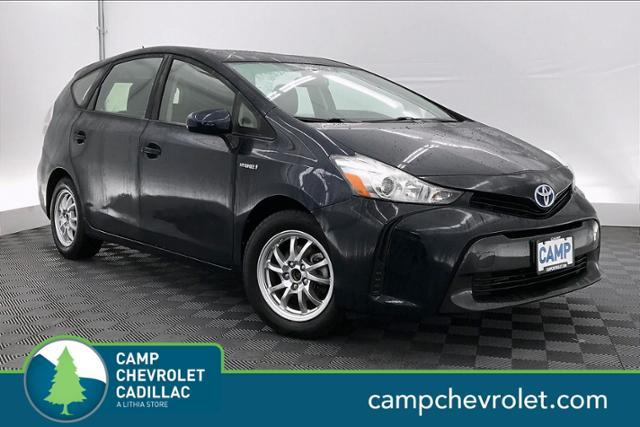Toyota Prius: (34, 44, 605, 342)
